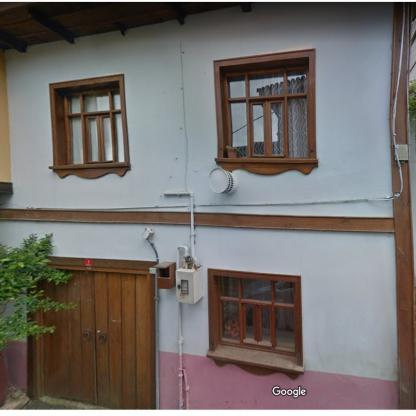door: (30, 257, 155, 407)
window: (214, 49, 316, 159), (51, 77, 126, 166), (214, 276, 296, 357)
